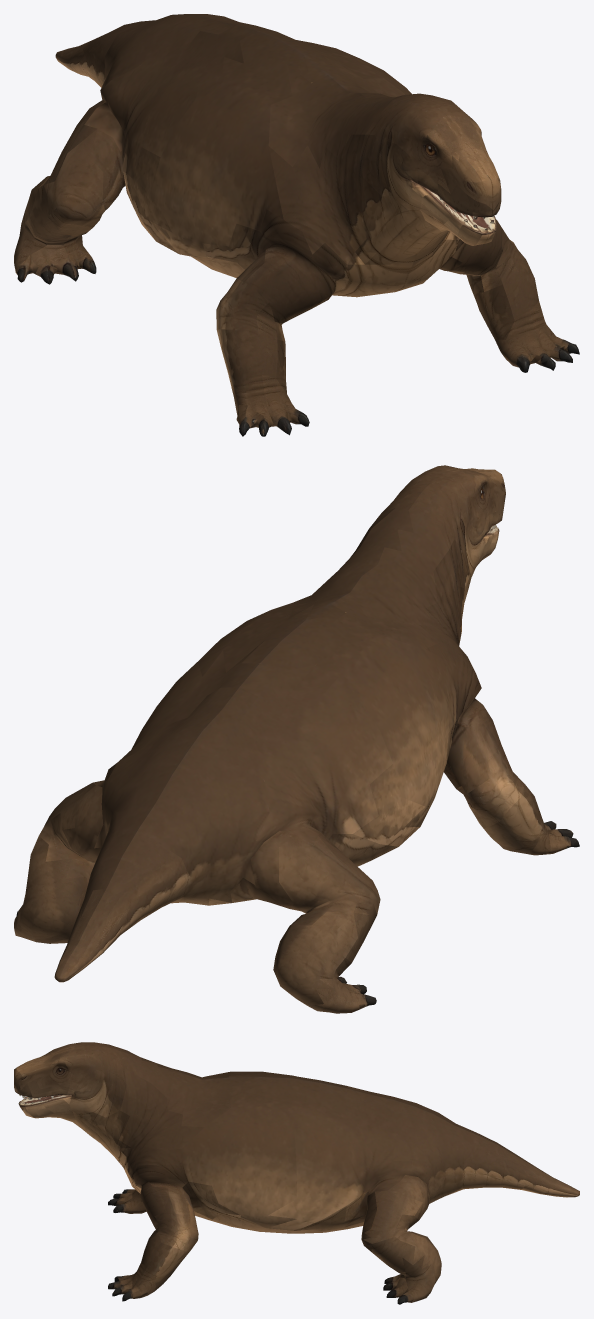
File: CRT-020.glb
The picture shows the model from 3 angles, top to bottom: view 1: azimuth 30°, elevation 25°; view 2: azimuth 150°, elevation 25°; view 3: azimuth 270°, elevation 25°; orthographic projection. The views are drawn at different scales.
Visible parts, largest first — view 1: mesh_node; view 2: mesh_node; view 3: mesh_node.
Boxes of the visible parts, bbox=[...] form: mesh_node: bbox=[14, 14, 579, 436]; mesh_node: bbox=[14, 465, 579, 1013]; mesh_node: bbox=[14, 1042, 579, 1304].
Bounding box in the file's own units: 0.4756 × 0.3965 × 1.
1 material, 1 textured.
